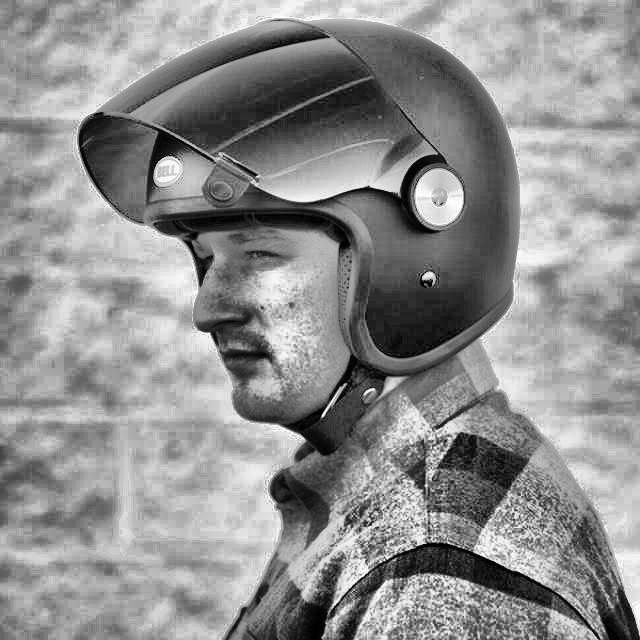Helmet: (70, 6, 526, 460)
